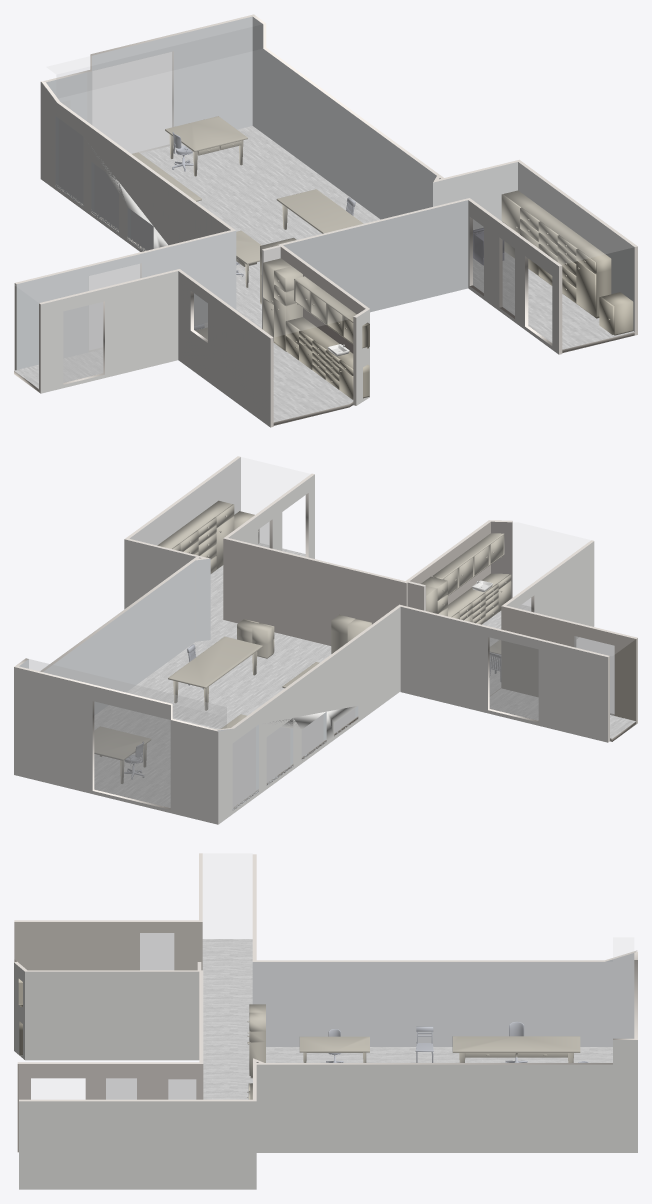
The model's file is Staff room secret corridors.fbx.
3 views of the same model, one above another, from view 1: azimuth 30°, elevation 25°; view 2: azimuth 150°, elevation 25°; view 3: azimuth 270°, elevation 25° (orthographic). The views are drawn at different scales.
Visible parts, largest first — view 1: node_a8b1bee0_109f_4fd3_9fd9_980403af3ddd_mesh0, node_cf8b5c50_3813_4f60_8212_3cdb1830511a_mesh0, node_bc29c915_9b32_46df_8950_331de8919015_mesh0, node_f8d380c2_ca3f_4297_b85e_3aef255d0e08_mesh0, node_3059b095_93e7_4dad_80ed_d400ff3ffb55_mesh0, node_085fa6f1_d249_455a_8654_16be8f4231ea_mesh0, node_070e5049_2d50_4f02_b610_db97b5cb3f21_mesh0, node_88dfe8bc_3467_455b_9c46_bf39b75225f0_mesh0, node_1bcce5d8_c12e_454c_87d2_3c4d4ff979b3_mesh0, node_090077db_19d8_43a7_8a56_5f90f29ffb21_mesh0, node_013c19e0_b7c6_436b_afb2_268147fda706_mesh0, node_5bc7d8fa_ef93_4a84_adf3_b5a6f0838df7_mesh0 (+42 smaller); view 2: node_a8b1bee0_109f_4fd3_9fd9_980403af3ddd_mesh0, node_ba68c0dd_3372_452f_8d4d_80fb16a1c8a9_mesh0, node_4878fb84_b485_45c5_901f_71fb16a0668f_mesh0, node_f8d380c2_ca3f_4297_b85e_3aef255d0e08_mesh0, node_a9c21010_a3a5_4784_a9b0_b81bbc5bf903_mesh0, node_88dfe8bc_3467_455b_9c46_bf39b75225f0_mesh0, node_cf8b5c50_3813_4f60_8212_3cdb1830511a_mesh0, node_1bcce5d8_c12e_454c_87d2_3c4d4ff979b3_mesh0, node_013c19e0_b7c6_436b_afb2_268147fda706_mesh0, node_5bc7d8fa_ef93_4a84_adf3_b5a6f0838df7_mesh0, node_d3bb1ddd_0109_4434_b443_0a2c8307c65e_mesh0, node_e4ddcd4b_cd36_4e50_81ec_2008f3ff648f_mesh0 (+38 smaller); view 3: node_a8b1bee0_109f_4fd3_9fd9_980403af3ddd_mesh0, node_8bc65ba8_9796_4b2e_a5d2_ee56b61dd9e7_mesh0, node_5812ec1c_2ca5_4ee4_ad32_b41fc295a61b_mesh0, node_062846b8_7bfa_4d1e_9a25_8aaa2669d103_mesh0, node_943de22a_de40_47ef_b760_566307dbefc5_mesh0, node_1bcce5d8_c12e_454c_87d2_3c4d4ff979b3_mesh0, node_8f94911b_b35f_4b5a_8bfd_5291df395608_mesh0, node_f8d380c2_ca3f_4297_b85e_3aef255d0e08_mesh0, node_e4ddcd4b_cd36_4e50_81ec_2008f3ff648f_mesh0, node_4e25fa22_3137_4c6e_b022_d74bca794af3_mesh0, node_dd0b981e_4b37_4870_8dc8_2a29ab16a038_mesh0, node_3256fb3b_b1e5_4c41_93d0_3f95ce2acd34_mesh0 (+20 smaller).
Boxes of the visible parts, x1=… form: node_a8b1bee0_109f_4fd3_9fd9_980403af3ddd_mesh0: x1=59, y1=49, x2=435, y2=229; node_cf8b5c50_3813_4f60_8212_3cdb1830511a_mesh0: x1=252, y1=17, x2=436, y2=219; node_bc29c915_9b32_46df_8950_331de8919015_mesh0: x1=283, y1=200, x2=468, y2=312; node_f8d380c2_ca3f_4297_b85e_3aef255d0e08_mesh0: x1=140, y1=126, x2=380, y2=328; node_3059b095_93e7_4dad_80ed_d400ff3ffb55_mesh0: x1=46, y1=16, x2=252, y2=129; node_085fa6f1_d249_455a_8654_16be8f4231ea_mesh0: x1=40, y1=271, x2=178, y2=393; node_070e5049_2d50_4f02_b610_db97b5cb3f21_mesh0: x1=16, y1=231, x2=236, y2=369; node_88dfe8bc_3467_455b_9c46_bf39b75225f0_mesh0: x1=40, y1=82, x2=230, y2=251; node_1bcce5d8_c12e_454c_87d2_3c4d4ff979b3_mesh0: x1=181, y1=246, x2=364, y2=336; node_090077db_19d8_43a7_8a56_5f90f29ffb21_mesh0: x1=178, y1=271, x2=270, y2=427; node_013c19e0_b7c6_436b_afb2_268147fda706_mesh0: x1=87, y1=51, x2=173, y2=153; node_5bc7d8fa_ef93_4a84_adf3_b5a6f0838df7_mesh0: x1=88, y1=52, x2=173, y2=153; node_a8b1bee0_109f_4fd3_9fd9_980403af3ddd_mesh0: x1=54, y1=559, x2=397, y2=728; node_ba68c0dd_3372_452f_8d4d_80fb16a1c8a9_mesh0: x1=14, y1=667, x2=218, y2=824; node_4878fb84_b485_45c5_901f_71fb16a0668f_mesh0: x1=400, y1=607, x2=607, y2=742; node_f8d380c2_ca3f_4297_b85e_3aef255d0e08_mesh0: x1=94, y1=620, x2=331, y2=807; node_a9c21010_a3a5_4784_a9b0_b81bbc5bf903_mesh0: x1=223, y1=538, x2=406, y2=645; node_88dfe8bc_3467_455b_9c46_bf39b75225f0_mesh0: x1=218, y1=607, x2=400, y2=824; node_cf8b5c50_3813_4f60_8212_3cdb1830511a_mesh0: x1=19, y1=561, x2=195, y2=715; node_1bcce5d8_c12e_454c_87d2_3c4d4ff979b3_mesh0: x1=409, y1=522, x2=590, y2=605; node_013c19e0_b7c6_436b_afb2_268147fda706_mesh0: x1=94, y1=702, x2=170, y2=807; node_5bc7d8fa_ef93_4a84_adf3_b5a6f0838df7_mesh0: x1=94, y1=702, x2=170, y2=807; node_d3bb1ddd_0109_4434_b443_0a2c8307c65e_mesh0: x1=501, y1=606, x2=636, y2=720; node_e4ddcd4b_cd36_4e50_81ec_2008f3ff648f_mesh0: x1=130, y1=484, x2=272, y2=554; node_a8b1bee0_109f_4fd3_9fd9_980403af3ddd_mesh0: x1=253, y1=962, x2=612, y2=1062; node_8bc65ba8_9796_4b2e_a5d2_ee56b61dd9e7_mesh0: x1=256, y1=1040, x2=637, y2=1152; node_5812ec1c_2ca5_4ee4_ad32_b41fc295a61b_mesh0: x1=252, y1=953, x2=634, y2=1046; node_062846b8_7bfa_4d1e_9a25_8aaa2669d103_mesh0: x1=19, y1=1101, x2=256, y2=1189; node_943de22a_de40_47ef_b760_566307dbefc5_mesh0: x1=25, y1=971, x2=199, y2=1060; node_1bcce5d8_c12e_454c_87d2_3c4d4ff979b3_mesh0: x1=15, y1=922, x2=201, y2=969; node_8f94911b_b35f_4b5a_8bfd_5291df395608_mesh0: x1=14, y1=922, x2=202, y2=970; node_f8d380c2_ca3f_4297_b85e_3aef255d0e08_mesh0: x1=203, y1=1047, x2=612, y2=1099; node_e4ddcd4b_cd36_4e50_81ec_2008f3ff648f_mesh0: x1=96, y1=1064, x2=252, y2=1098; node_4e25fa22_3137_4c6e_b022_d74bca794af3_mesh0: x1=202, y1=962, x2=252, y2=1063; node_dd0b981e_4b37_4870_8dc8_2a29ab16a038_mesh0: x1=202, y1=939, x2=252, y2=1006; node_3256fb3b_b1e5_4c41_93d0_3f95ce2acd34_mesh0: x1=203, y1=855, x2=251, y2=921.
Size of the model in its own units: 1567 by 335 by 1665.
Materials: 19 (5 with a texture image).
